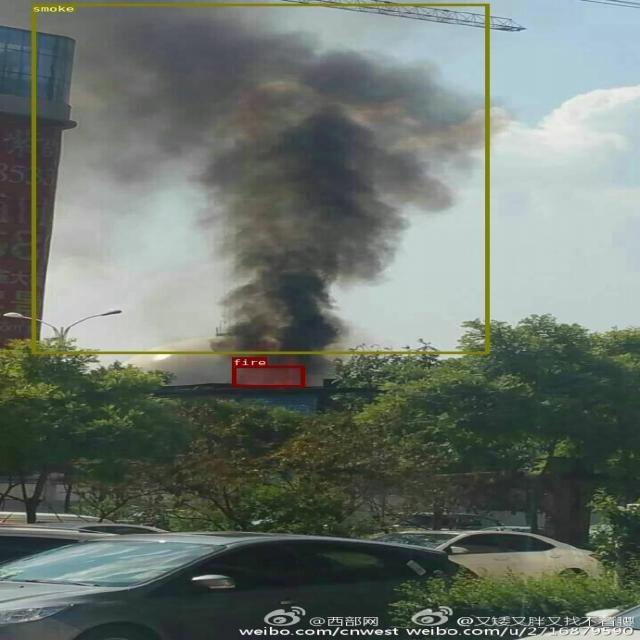fire: (231, 365, 304, 387)
smoke: (31, 4, 488, 354)
